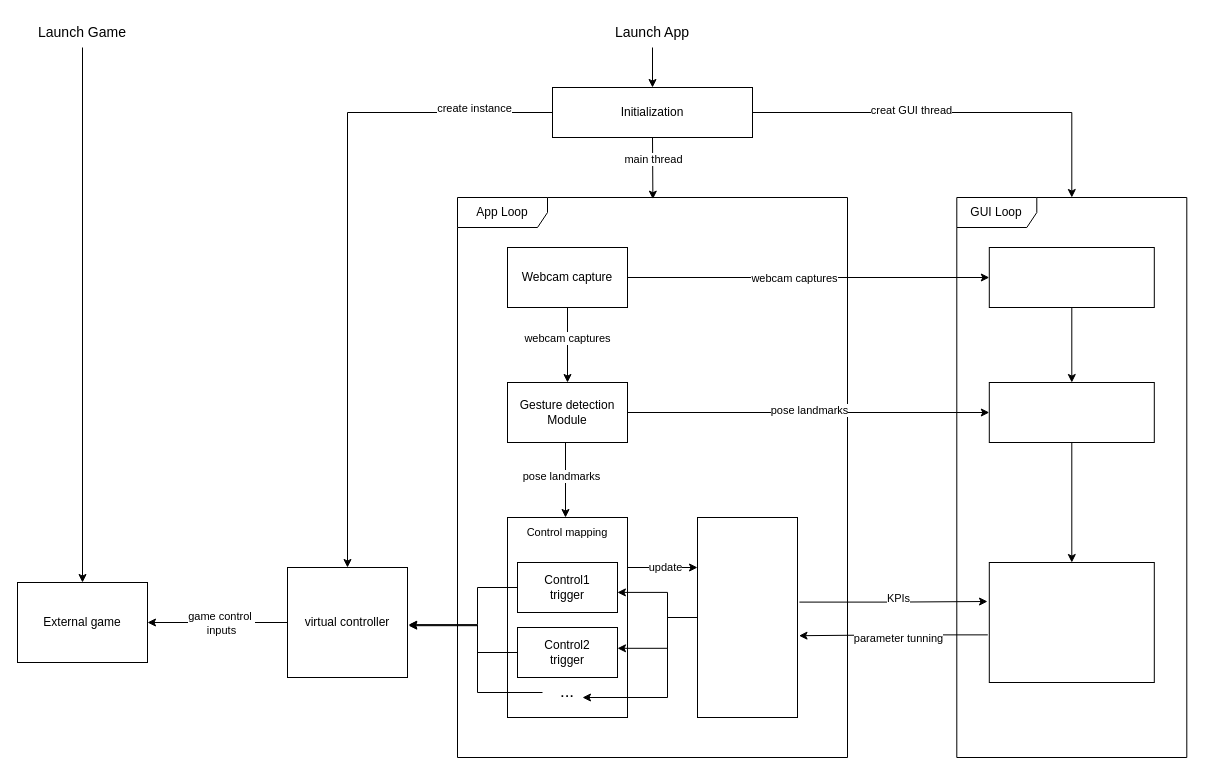
Image size: 1205x775. Some labels were removed from this diagram. Each missing label, with the centre of its shape:
"Capturaing visualization" belongs at (x=1071, y=277).
"Detection visualization" belongs at (x=1071, y=412).
"KPI states" belongs at (x=747, y=617).
"Parameter calibration and visualization" belongs at (x=1071, y=622).
